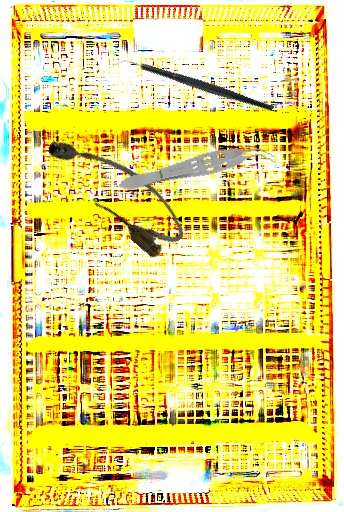Cannula: (38, 116, 195, 264)
Chopper: (111, 11, 275, 161)
Tissue Forceps: (116, 137, 278, 199)
